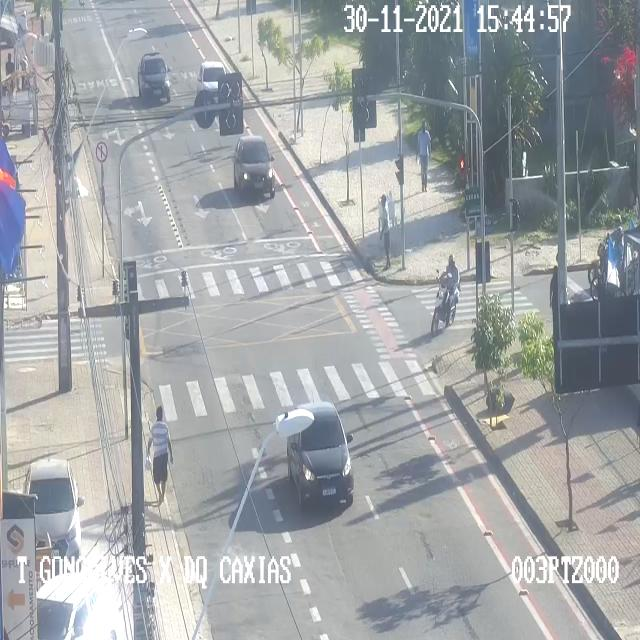Car: (286, 399, 354, 509), (25, 460, 84, 559), (36, 572, 118, 639), (234, 135, 274, 199), (137, 53, 171, 104), (197, 63, 227, 109)
Motorcycle: (592, 228, 636, 298), (431, 255, 460, 333)
